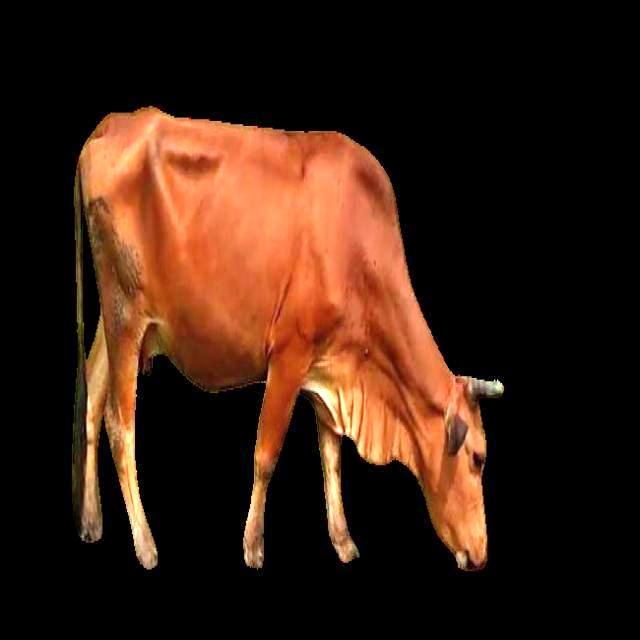COW: (72, 108, 502, 570)
